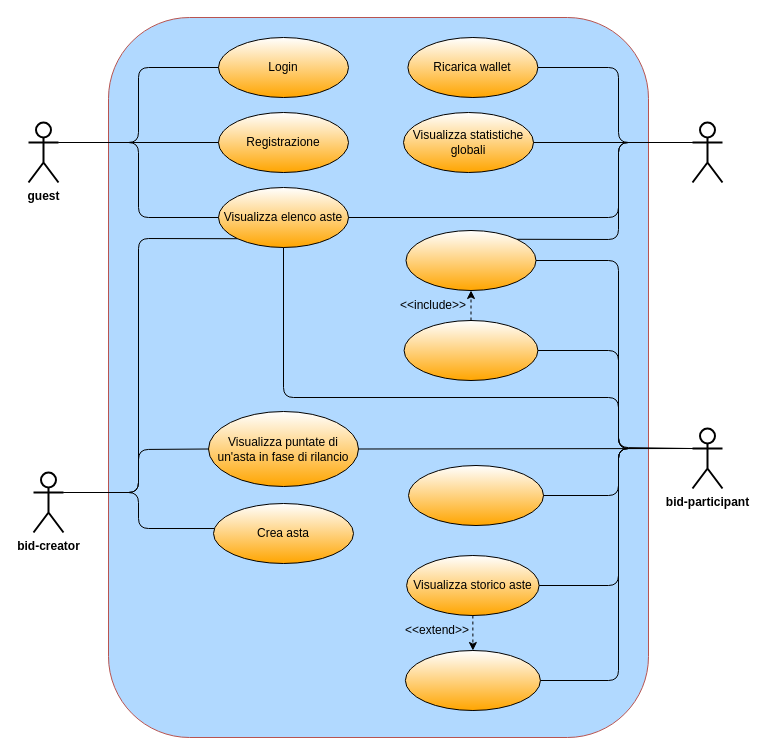
Some shapes in this 766 by 755 pixel diagram are drawn without their labels. Each missing label, with the centre of its shape:
"admin" belongs at (707,152).
"Esegui puntata" belongs at (476,495).
"Iscrizione all'asta" belongs at (470,350).
"Verifica credito residuto" belongs at (470,260).
"Visualizza spesa effettuata" belongs at (472,680).
